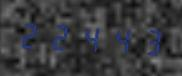four: (105, 20, 133, 58), (76, 19, 104, 56)
three: (134, 22, 162, 59)
two: (47, 17, 75, 55), (18, 16, 46, 53)
